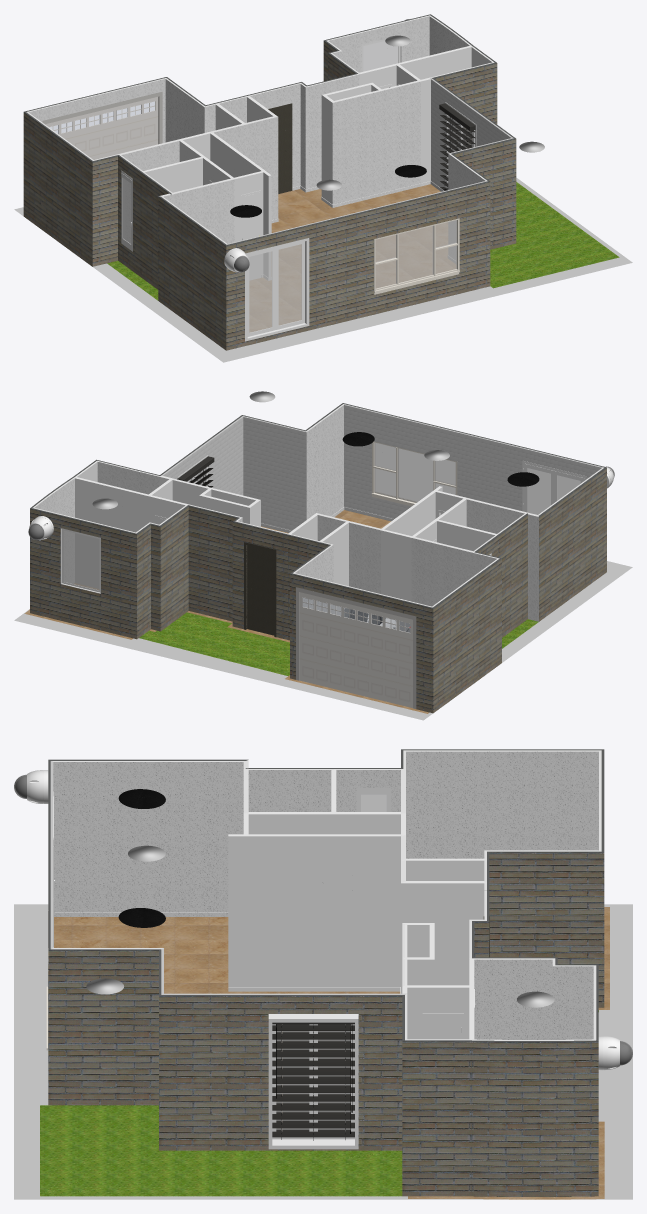
File: home.glb
3 renders of one model, top to bottom at view 1: azimuth 30°, elevation 25°; view 2: azimuth 150°, elevation 25°; view 3: azimuth 270°, elevation 25°, orthographic. The views are drawn at different scales.
Visible parts, largest first — view 1: wall_9_49, room_63_325, wall_6_34, wall_8_42, ground_1, room_64_326, wall_36_228, wall_38_243, wall_11_63, GARAGE_1, wall_47_301, wall_41_263 (+42 smaller); view 2: wall_9_48, GARAGE_1, wall_14_82, wall_6_34, wall_8_42, ground_1, wall_11_62, wall_18_107, room_62_324, wall_1_4, wall_35_221, wall_10_55 (+33 smaller); view 3: wall_8_41, wall_12_70, wall_30_187, room_64_326, wall_6_35, wall_28_174, ground_1, wall_10_56, wall_2_10, wall_27_168, room_63_325, FAMILY_BLIND (+23 smaller).
Boxes of the visible parts, <box> form: wall_9_49: <box>226,181,490,350</box>; room_63_325: <box>249,184,455,331</box>; wall_6_34: <box>23,112,92,266</box>; wall_8_42: <box>158,196,226,350</box>; ground_1: <box>14,177,632,362</box>; room_64_326: <box>490,182,619,288</box>; wall_36_228: <box>332,91,381,204</box>; wall_38_243: <box>382,81,420,192</box>; wall_11_63: <box>453,138,516,249</box>; GARAGE_1: <box>45,97,158,159</box>; wall_47_301: <box>92,156,117,266</box>; wall_41_263: <box>171,179,234,243</box>; wall_9_48: <box>344,405,601,518</box>; GARAGE_1: <box>299,592,412,707</box>; wall_14_82: <box>30,508,136,639</box>; wall_6_34: <box>433,558,501,712</box>; wall_8_42: <box>539,467,606,621</box>; ground_1: <box>14,561,632,720</box>; wall_11_62: <box>243,417,306,530</box>; wall_18_107: <box>188,506,237,621</box>; room_62_324: <box>139,612,289,675</box>; wall_1_4: <box>290,573,433,713</box>; wall_35_221: <box>75,478,148,588</box>; wall_10_55: <box>306,405,343,519</box>; wall_8_41: <box>53,762,243,912</box>; wall_12_70: <box>159,996,402,1150</box>; wall_30_187: <box>246,836,400,986</box>; room_64_326: <box>40,1105,402,1196</box>; wall_6_35: <box>406,751,598,858</box>; wall_28_174: <box>471,1041,598,1196</box>; ground_1: <box>14,904,632,1199</box>; wall_10_56: <box>48,950,158,1105</box>; wall_2_10: <box>489,852,604,1007</box>; wall_27_168: <box>402,1041,471,1196</box>; room_63_325: <box>54,907,609,1199</box>; FAMILY_BLIND: <box>272,1024,358,1145</box>.
Size of the model in its own units: 10.22 by 2.81 by 9.06.
50 materials, 16 textured.
